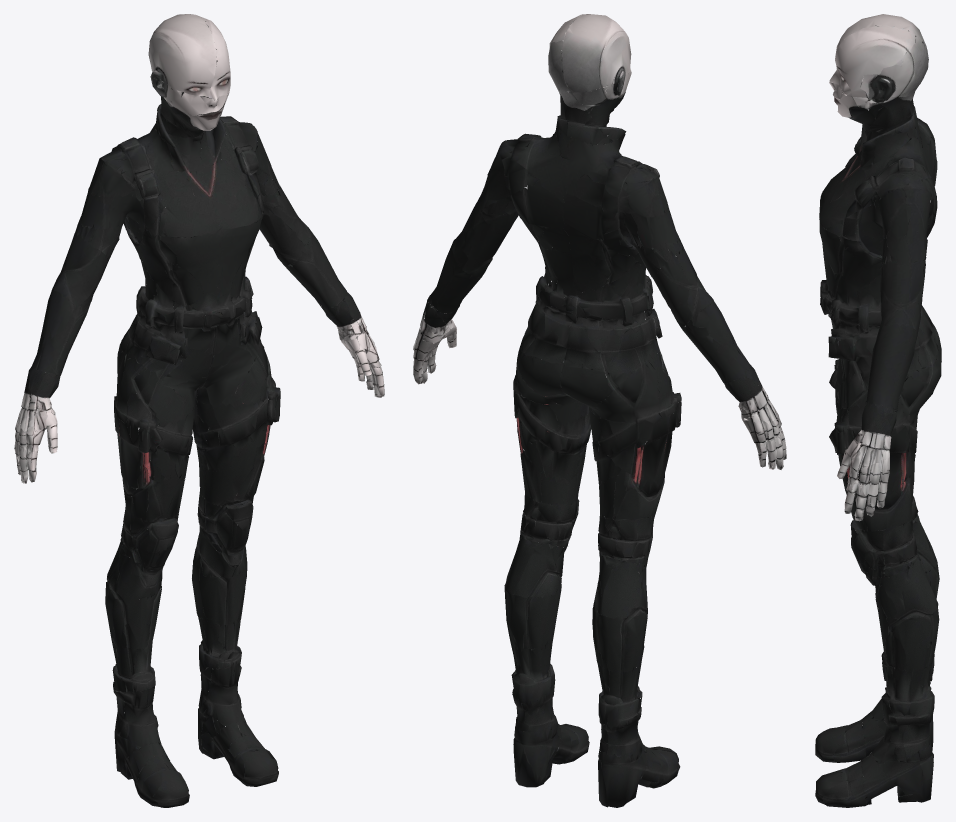
File: body.glb
The picture shows the model from 3 angles, left to right: view 1: azimuth 30°, elevation 25°; view 2: azimuth 150°, elevation 25°; view 3: azimuth 270°, elevation 25°; orthographic projection.
Visible parts, largest first — view 1: Mesh_0; view 2: Mesh_0; view 3: Mesh_0.
Boxes of the visible parts, x1,y1,x2,y2 form: Mesh_0: (14,14,384,807); Mesh_0: (413,14,786,807); Mesh_0: (815,14,941,807).
Size of the model in its own units: 0.9504 by 1.9 by 0.2876.
Materials: 1 (1 with a texture image).
